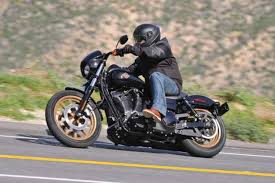helmet: (128, 24, 163, 50)
